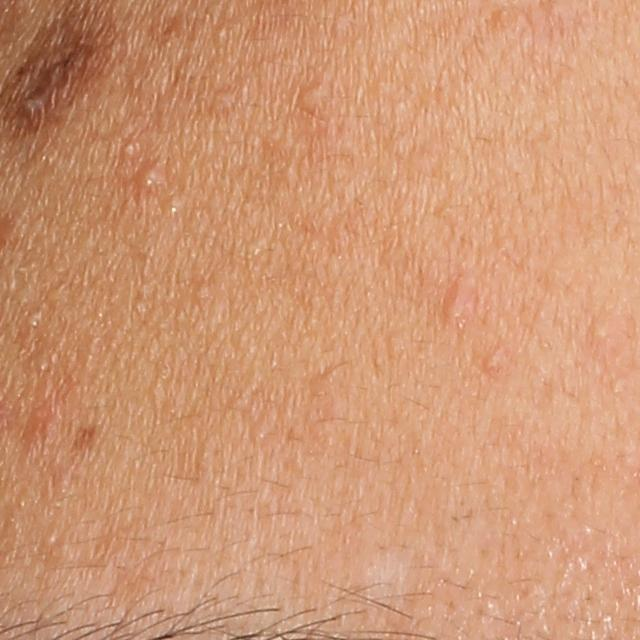comedo: (300, 84, 336, 115), (584, 315, 613, 339), (205, 83, 231, 109), (166, 193, 184, 213), (41, 532, 56, 547), (122, 143, 135, 157)
papule: (132, 165, 159, 190)
